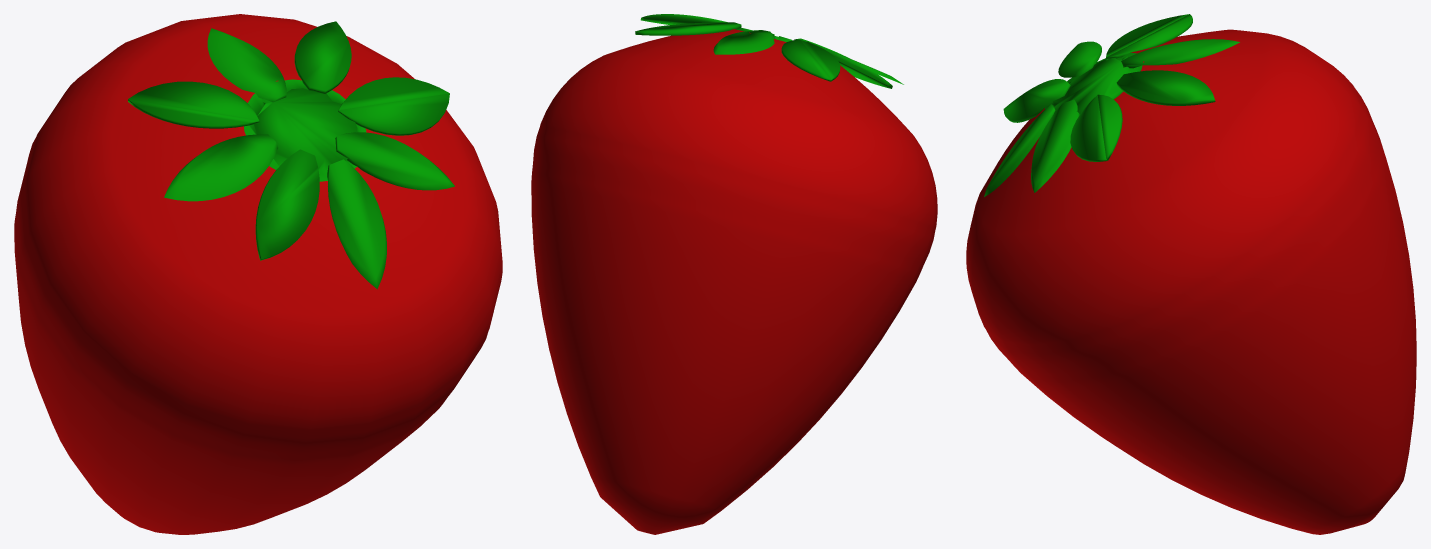
The model's file is StrawberryWhole.fbx.
The picture shows the model from 3 angles, left to right: view 1: azimuth 30°, elevation 25°; view 2: azimuth 150°, elevation 25°; view 3: azimuth 270°, elevation 25°; orthographic projection. The views are drawn at different scales.
Parts seen in each view (by area): view 1: Mesh404 Component_6_27 strawberries1 Model; view 2: Mesh404 Component_6_27 strawberries1 Model; view 3: Mesh404 Component_6_27 strawberries1 Model.
Part boxes in pixels (<box>): Mesh404 Component_6_27 strawberries1 Model: <box>14,14,502,534</box>; Mesh404 Component_6_27 strawberries1 Model: <box>531,14,937,534</box>; Mesh404 Component_6_27 strawberries1 Model: <box>966,14,1416,534</box>.
Size of the model in its own units: 3.65 by 4.35 by 3.72.
